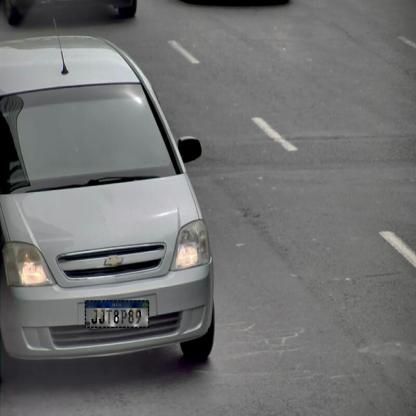PlacaM: (85, 300, 149, 328)
